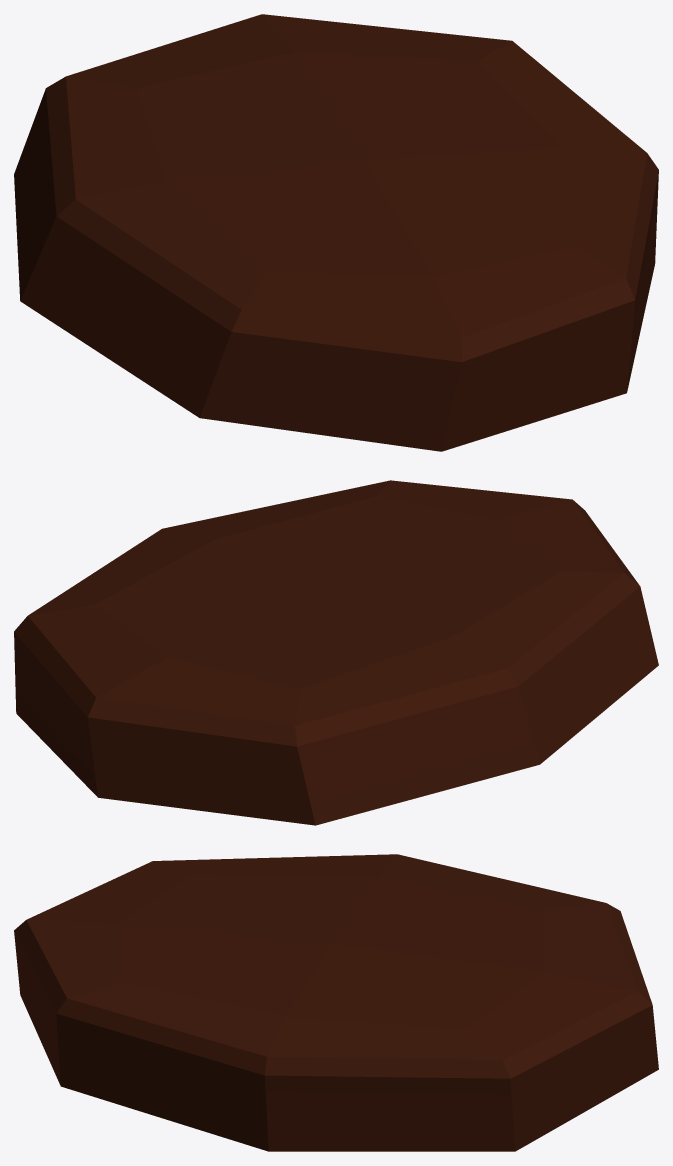
Rendered from Beht.fbx.
3 renders of one model, top to bottom at view 1: azimuth 30°, elevation 25°; view 2: azimuth 150°, elevation 25°; view 3: azimuth 270°, elevation 25°, orthographic. The views are drawn at different scales.
Parts seen in each view (by area): view 1: Beht.006; view 2: Beht.006; view 3: Beht.006.
Boxes of the visible parts, x1=… form: Beht.006: x1=14, y1=14, x2=658, y2=451; Beht.006: x1=14, y1=480, x2=658, y2=825; Beht.006: x1=14, y1=854, x2=658, y2=1151.
Size of the model in its own units: 268 by 62.34 by 333.
